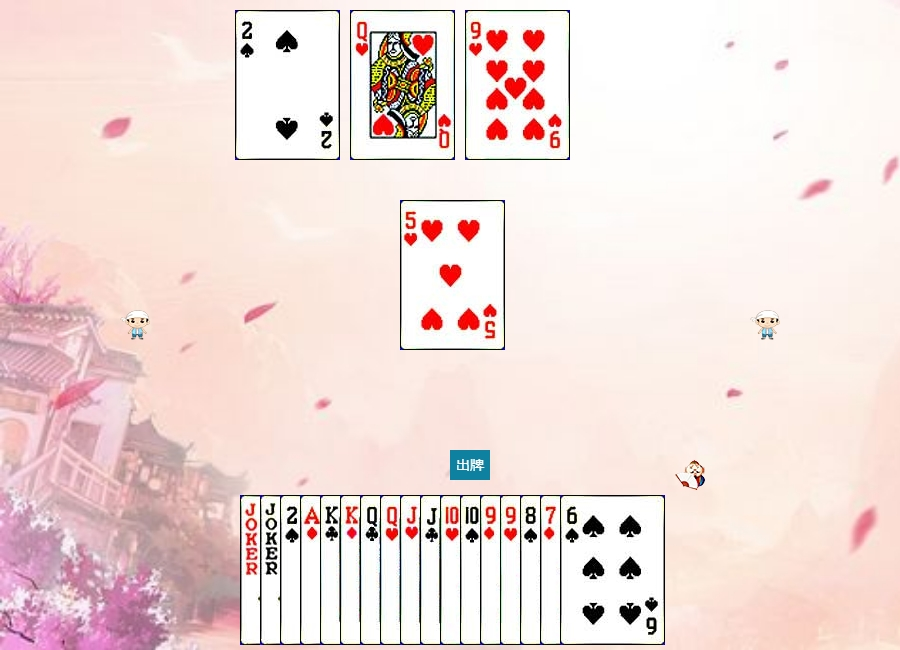10~3: (440, 495, 545, 645)
10~4: (460, 495, 565, 645)
11~2: (420, 495, 525, 645)
11~3: (400, 495, 505, 645)
12~2: (360, 495, 465, 645)
12~3: (350, 10, 455, 160), (380, 495, 485, 645)
13~1: (340, 495, 445, 645)
13~2: (320, 495, 425, 645)
14~1: (300, 495, 405, 645)
15~4: (235, 10, 340, 160), (280, 495, 385, 645)
17~3: (260, 495, 365, 645)
18~4: (240, 495, 345, 645)
5~3: (400, 200, 505, 350)
6~4: (560, 495, 665, 645)
7~1: (540, 495, 645, 645)
8~4: (520, 495, 625, 645)
9~1: (480, 495, 585, 645)
9~3: (465, 10, 570, 160), (500, 495, 605, 645)
